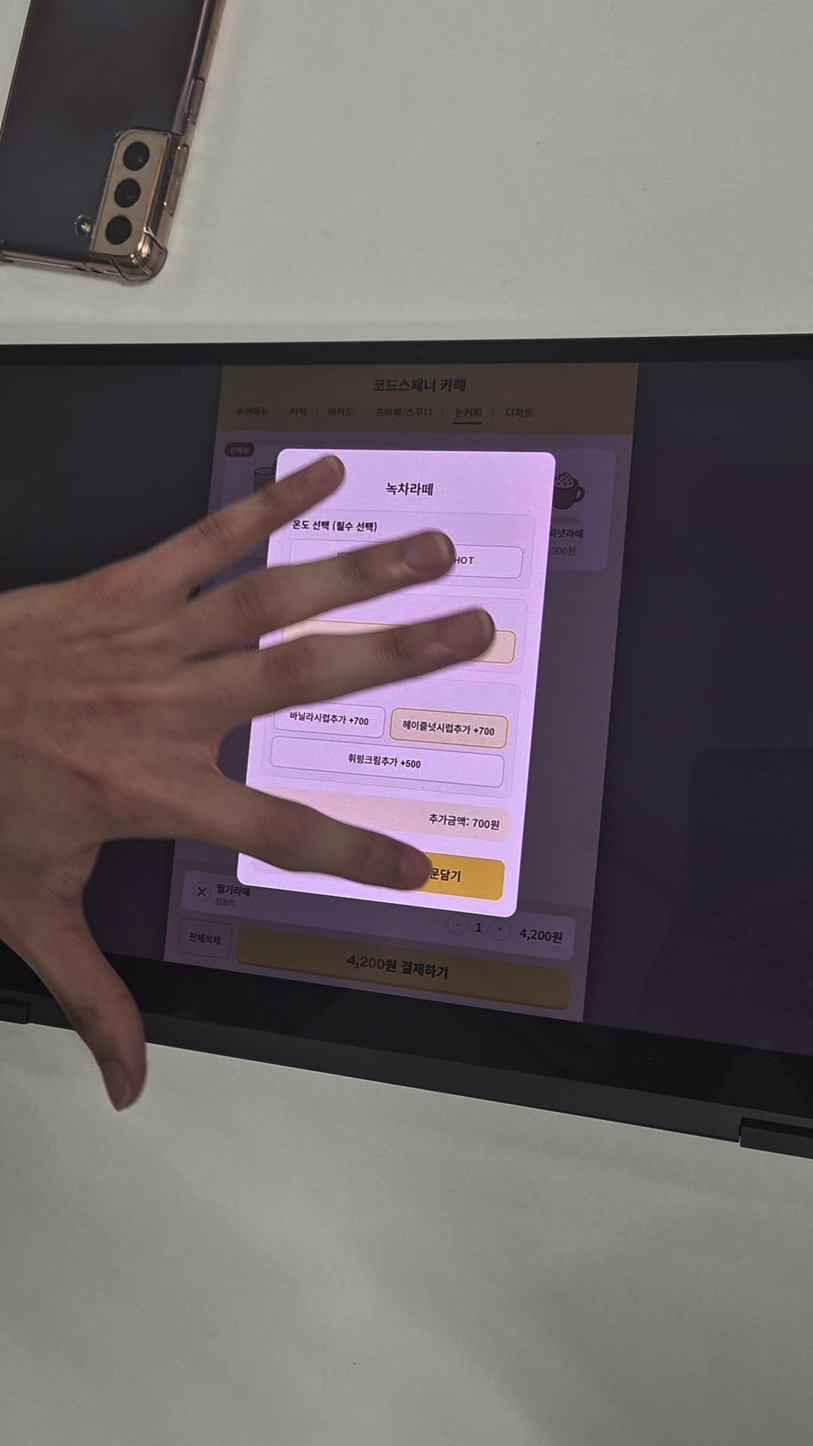action_button: (233, 926, 573, 1010), (376, 847, 505, 899), (176, 919, 232, 960)
category_tab: (374, 405, 434, 418), (235, 406, 270, 420), (452, 405, 484, 418), (326, 405, 355, 417), (504, 407, 535, 418), (287, 405, 307, 420)
menu_back: (506, 446, 613, 572)
menu_name: (385, 481, 435, 497), (540, 527, 589, 539)
menu_price: (542, 544, 579, 557)
option_button: (269, 737, 505, 789), (390, 708, 508, 750), (273, 699, 385, 738), (406, 543, 524, 580)
popup_modal: (236, 451, 556, 919)
